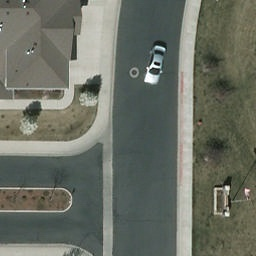car: (144, 42, 168, 85)
